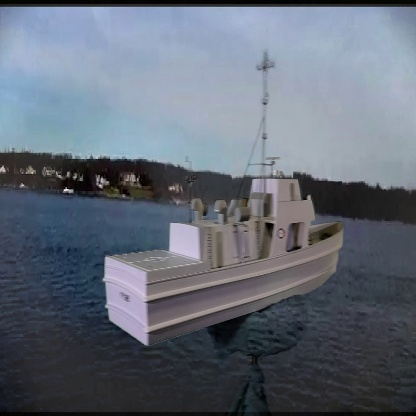YP689: (103, 48, 344, 349)
